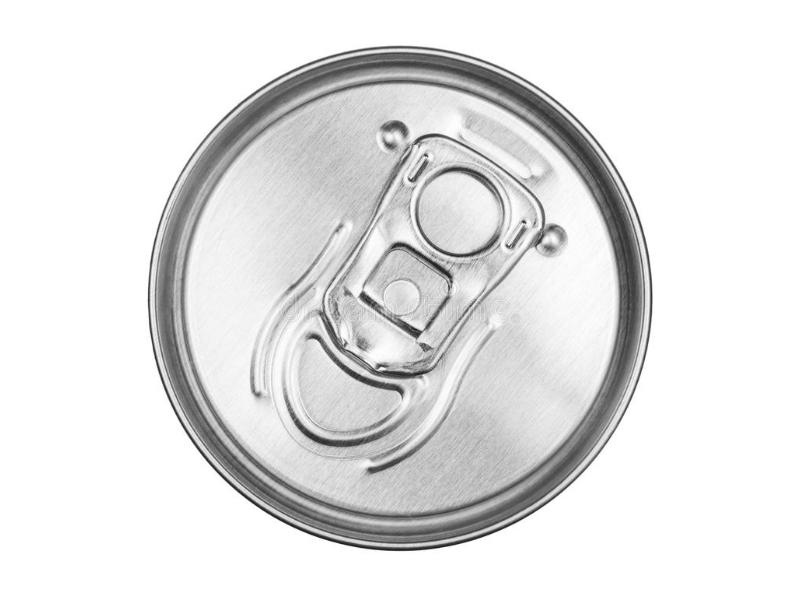can: (138, 35, 660, 560)
